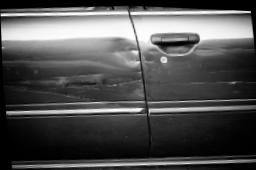Door: (0, 4, 256, 155)
